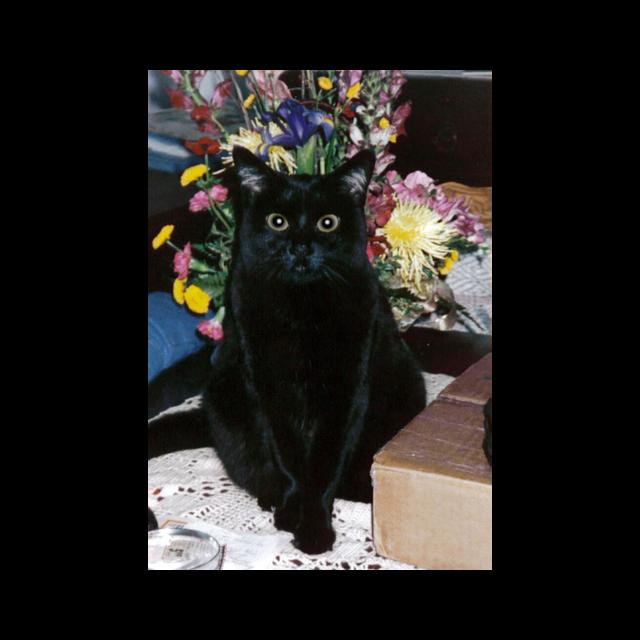animals: (236, 144, 372, 256)
